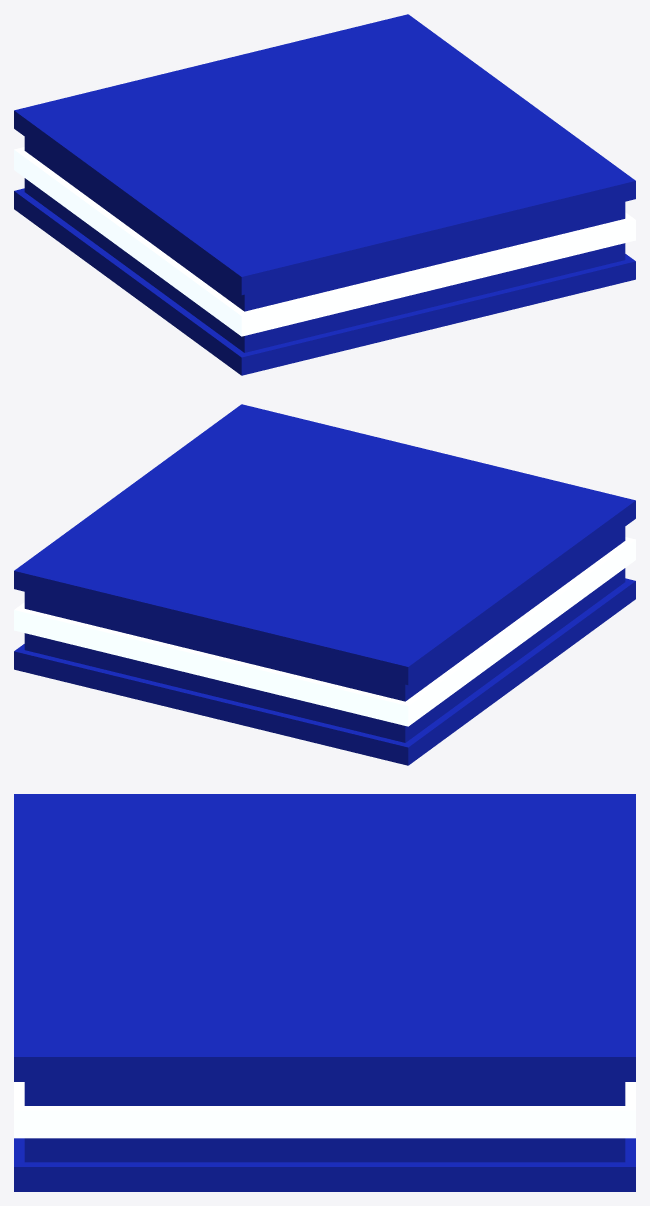
File: block.dae
3 views of the same model, one above another, from view 1: azimuth 30°, elevation 25°; view 2: azimuth 150°, elevation 25°; view 3: azimuth 270°, elevation 25° (orthographic). The views are drawn at different scales.
Parts seen in each view (by area): view 1: Cube; view 2: Cube; view 3: Cube.
Part boxes in pixels (x1,y1,x2,y2): Cube: (14,14,635,375); Cube: (14,404,635,765); Cube: (14,794,635,1191).
Size of the model in its own units: 1 by 1 by 0.2394.
